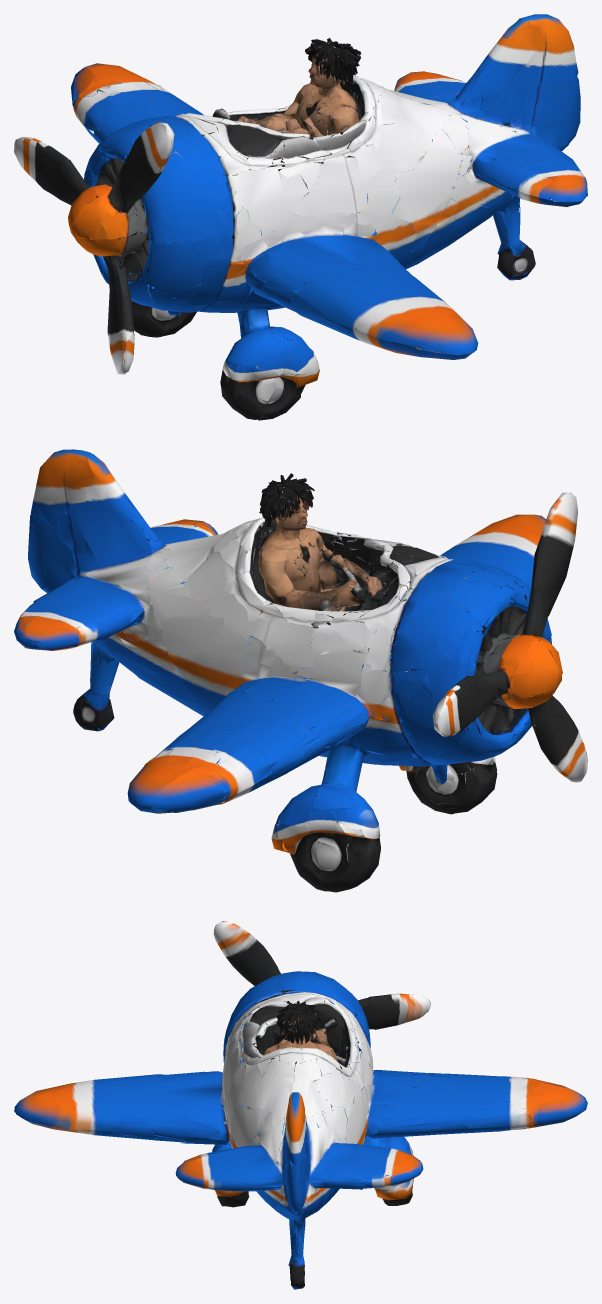
3 views of the same model, one above another, from view 1: azimuth 30°, elevation 25°; view 2: azimuth 150°, elevation 25°; view 3: azimuth 270°, elevation 25° (orthographic). The views are drawn at different scales.
Visible parts, largest first — view 1: Mesh_0; view 2: Mesh_0; view 3: Mesh_0.
Part boxes in pixels (x1=…): Mesh_0: x1=14, y1=14, x2=587, y2=420; Mesh_0: x1=14, y1=449, x2=587, y2=892; Mesh_0: x1=14, y1=921, x2=587, y2=1289.
Bounding box in the file's own units: 3.6 × 2.19 × 4.66.
1 material, 1 textured.
